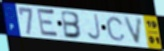7: (17, 6, 35, 37)
B: (60, 10, 84, 40)
C: (105, 17, 127, 43)
E: (36, 6, 61, 39)
J: (86, 13, 102, 41)
V: (123, 16, 145, 45)
